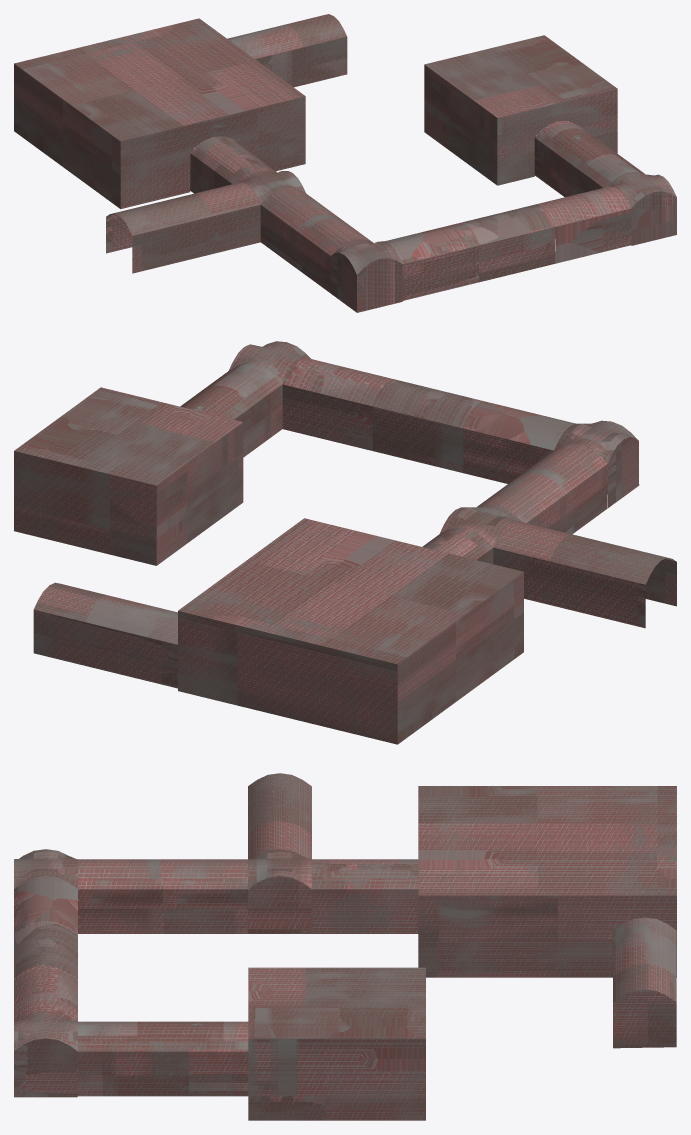
The model's file is room 1 jadi.fbx.
The picture shows the model from 3 angles, top to bottom: view 1: azimuth 30°, elevation 25°; view 2: azimuth 150°, elevation 25°; view 3: azimuth 270°, elevation 25°; orthographic projection. The views are drawn at different scales.
Parts seen in each view (by area): view 1: base.001; view 2: base.001; view 3: base.001.
Boxes of the visible parts, left/top/right/bottom form: base.001: left=14, top=14, right=676, bottom=312; base.001: left=14, top=341, right=676, bottom=744; base.001: left=14, top=773, right=676, bottom=1120.
Size of the model in its own units: 103 by 13.76 by 101.
